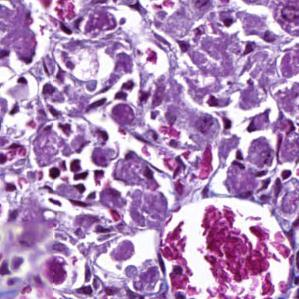ballooning: (158, 193, 294, 296)
